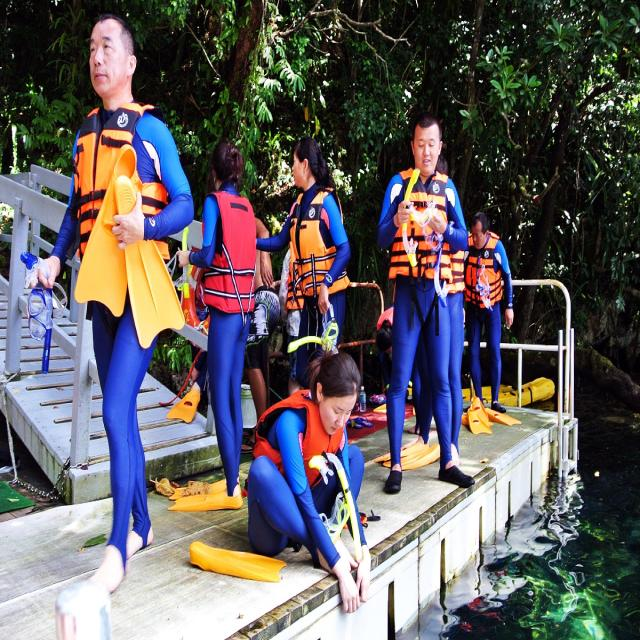body: (18, 9, 197, 604), (374, 109, 476, 497), (244, 339, 374, 617), (162, 139, 258, 513), (255, 134, 352, 392), (398, 155, 469, 471), (398, 534, 532, 639), (458, 209, 516, 415), (239, 214, 282, 455), (177, 281, 210, 414), (278, 241, 302, 397), (374, 301, 396, 395)
